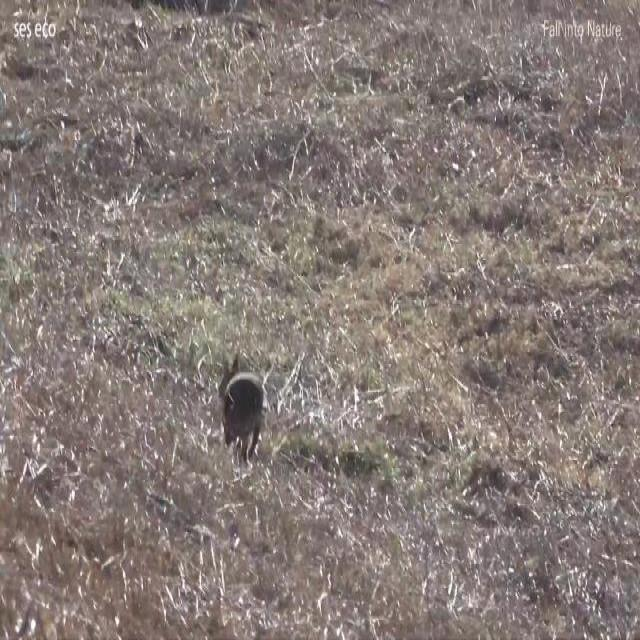deer: (217, 350, 264, 462)
